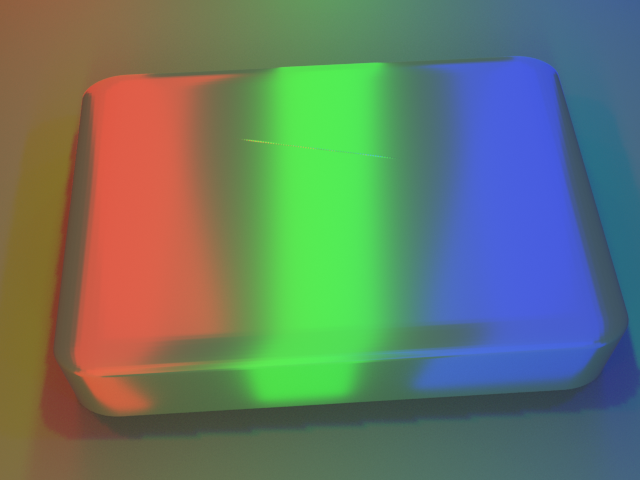scratch: (96, 51, 530, 266)
